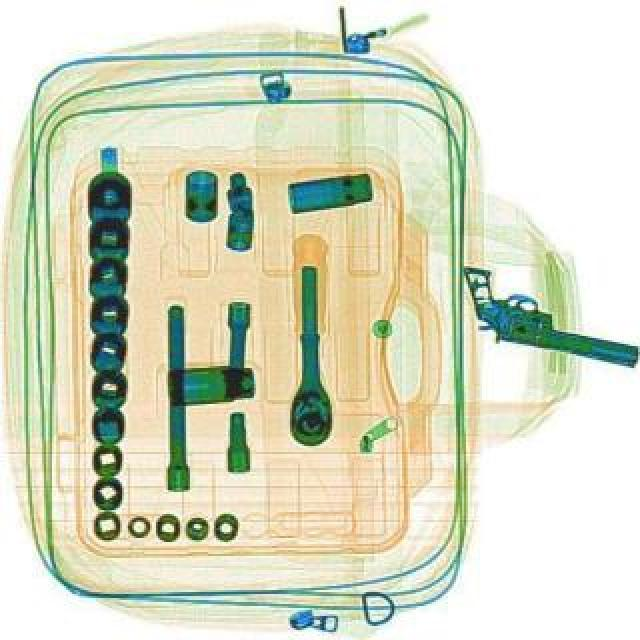gun: (446, 262, 638, 366)
